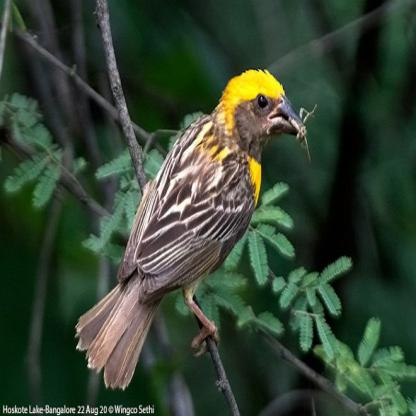Burung: (76, 69, 306, 390)
